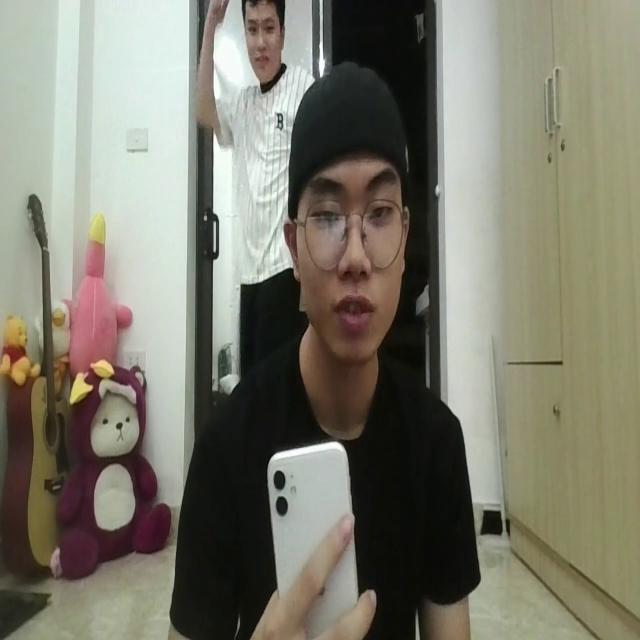extra_person: (190, 0, 312, 373)
phone: (267, 442, 362, 636)
student: (179, 55, 477, 640)
